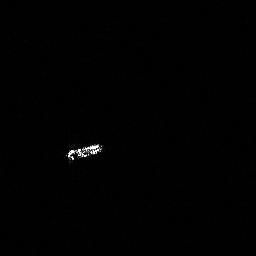ship: (63, 140, 105, 162)
